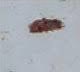Corrosion: (27, 17, 65, 33)
